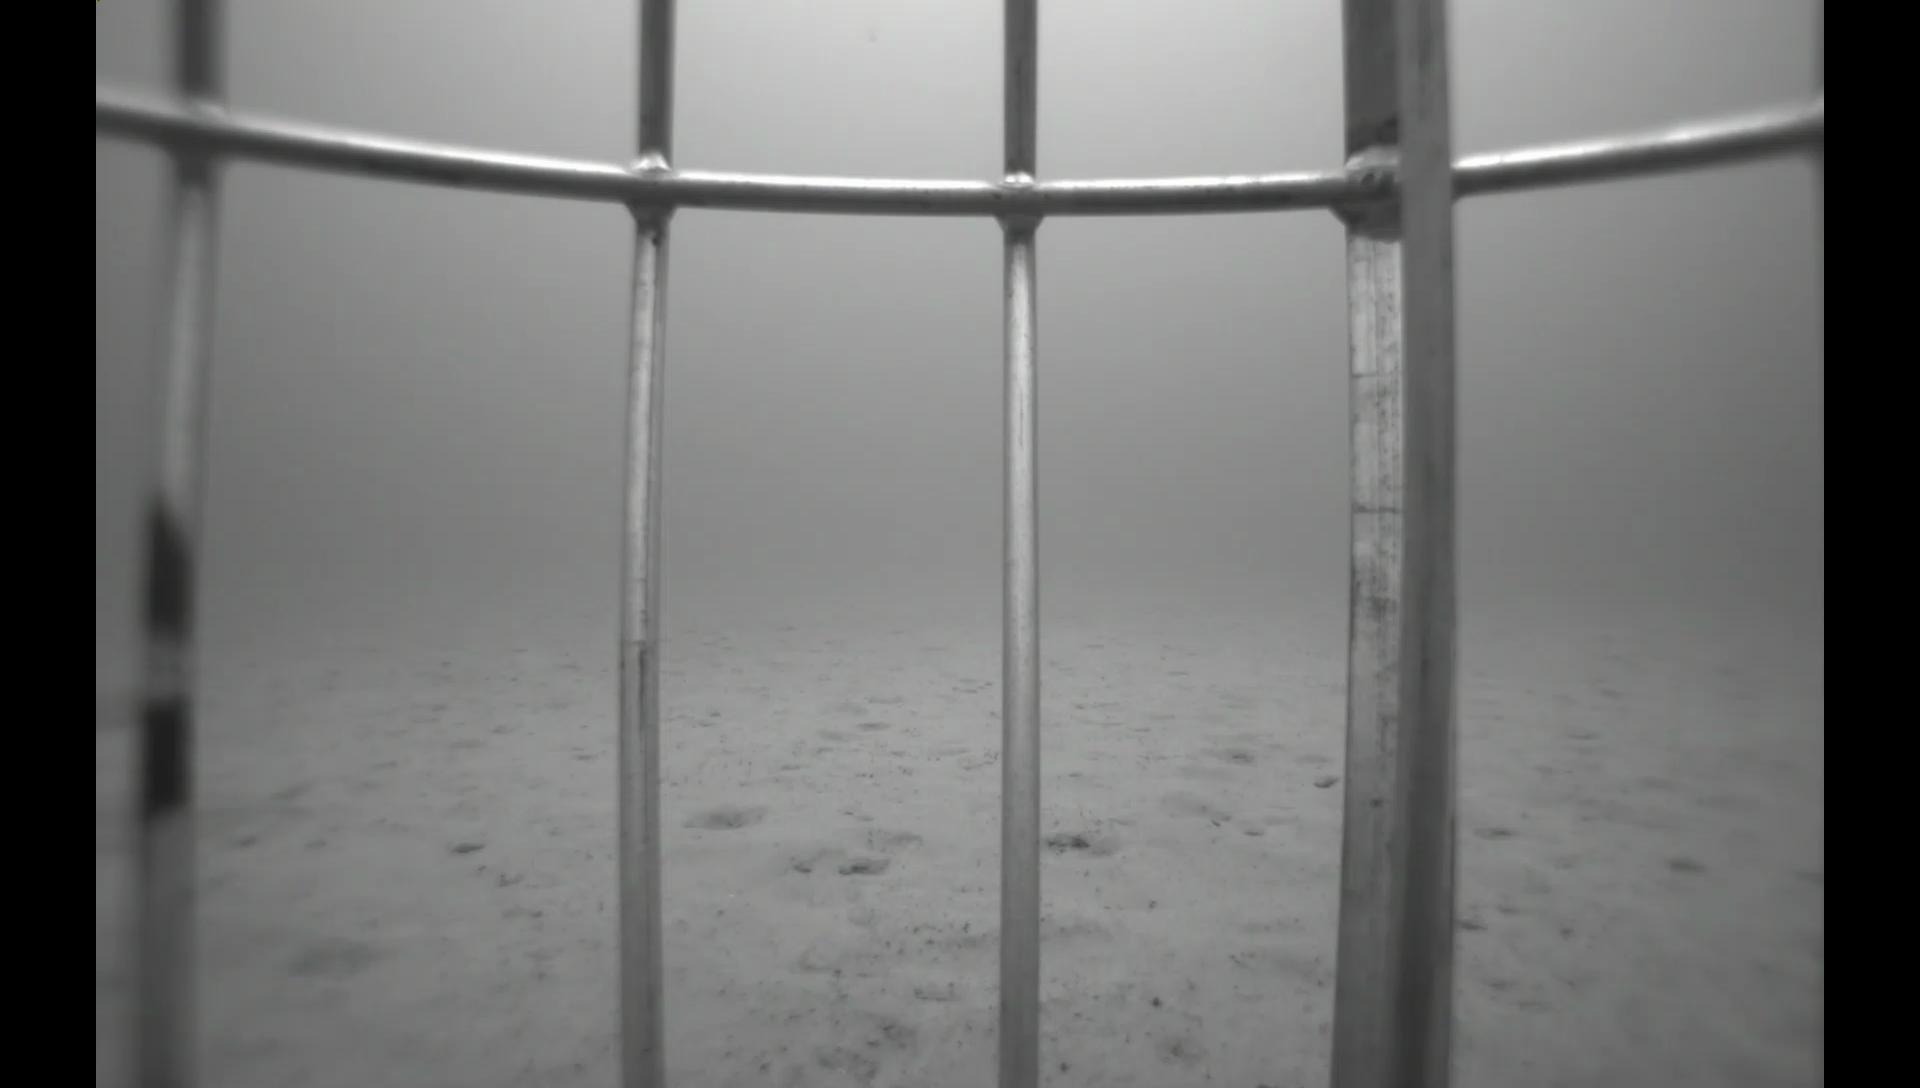CAULOLATILUSCYANOPS-170070101: (95, 770, 328, 852)
